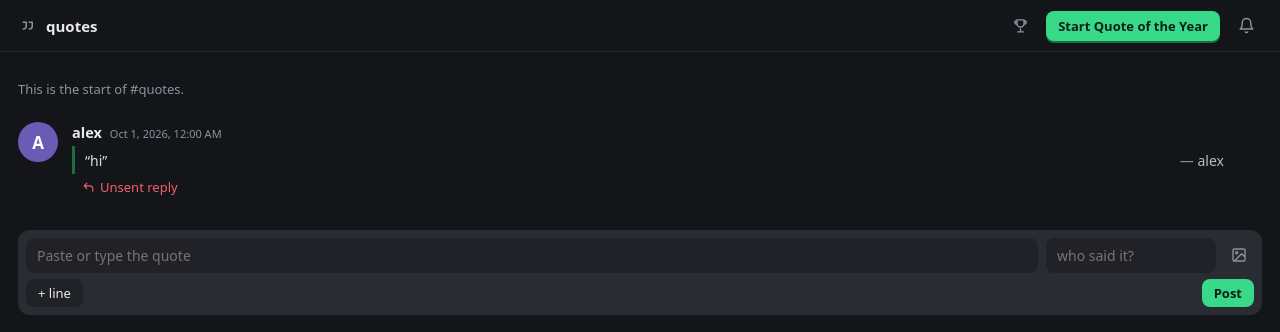
Test: TextChannel: quotes channel › I5: a quote with an unsent reply says so while its panel is closed, and the marker opens it
Click the button with class "unsent-reply": click(130, 187) [82,178,178,196]
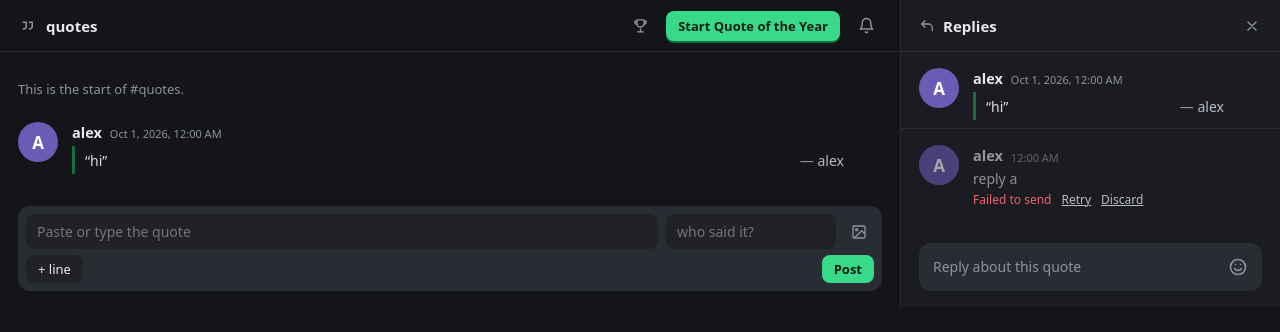
Check: the element with class "unsent" is shown, box [919,145,1059,189]
Check: the button with class "unsent-reply" is gone
Click the button named "Close replies": click(1252, 26) [1236,10,1268,42]
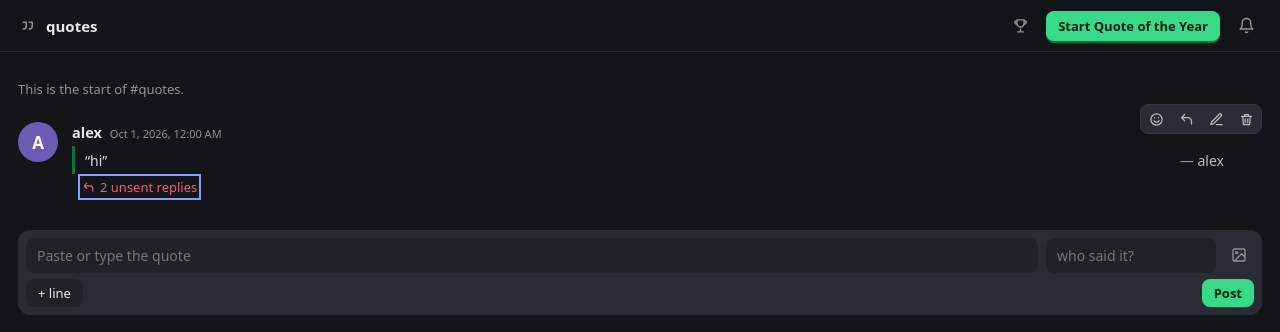
Check: the button with class "unsent-reply" reads "2 unsent replies", box [82,178,197,196]
